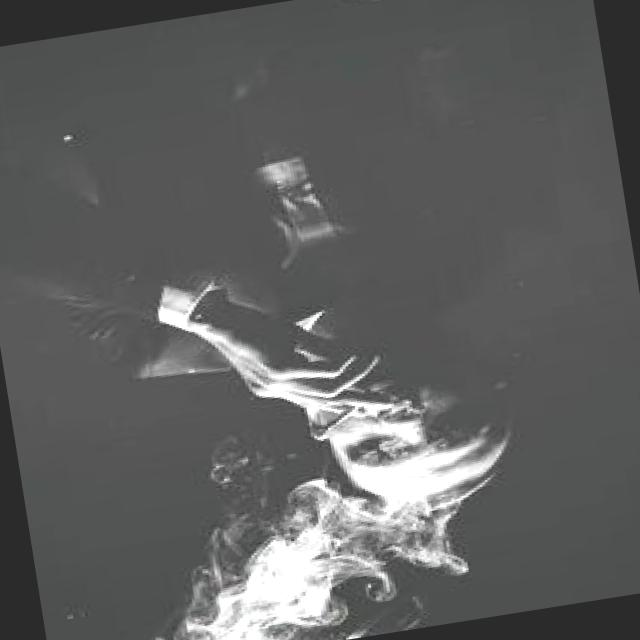cigarette: (316, 398, 374, 442)
